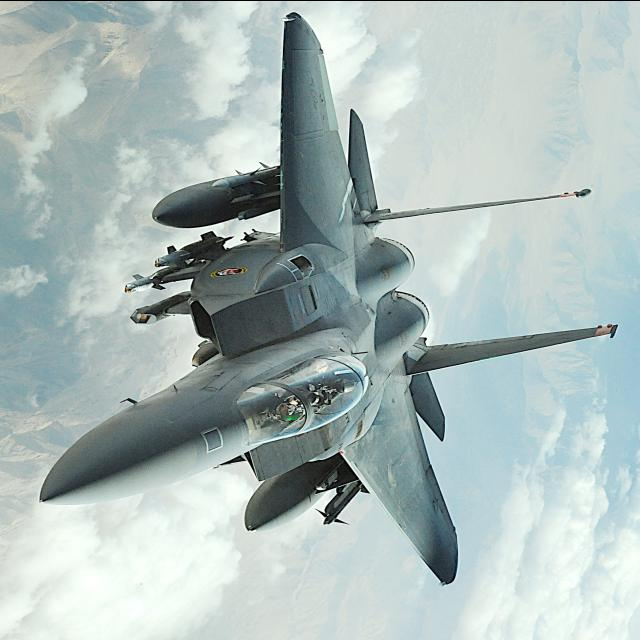F15: (6, 13, 620, 631)
